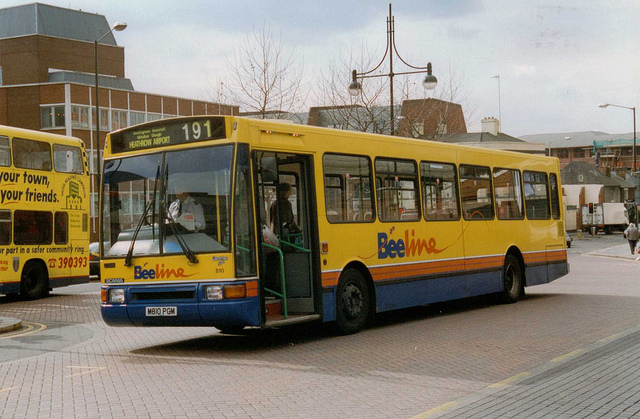Bus: (98, 115, 578, 309)
